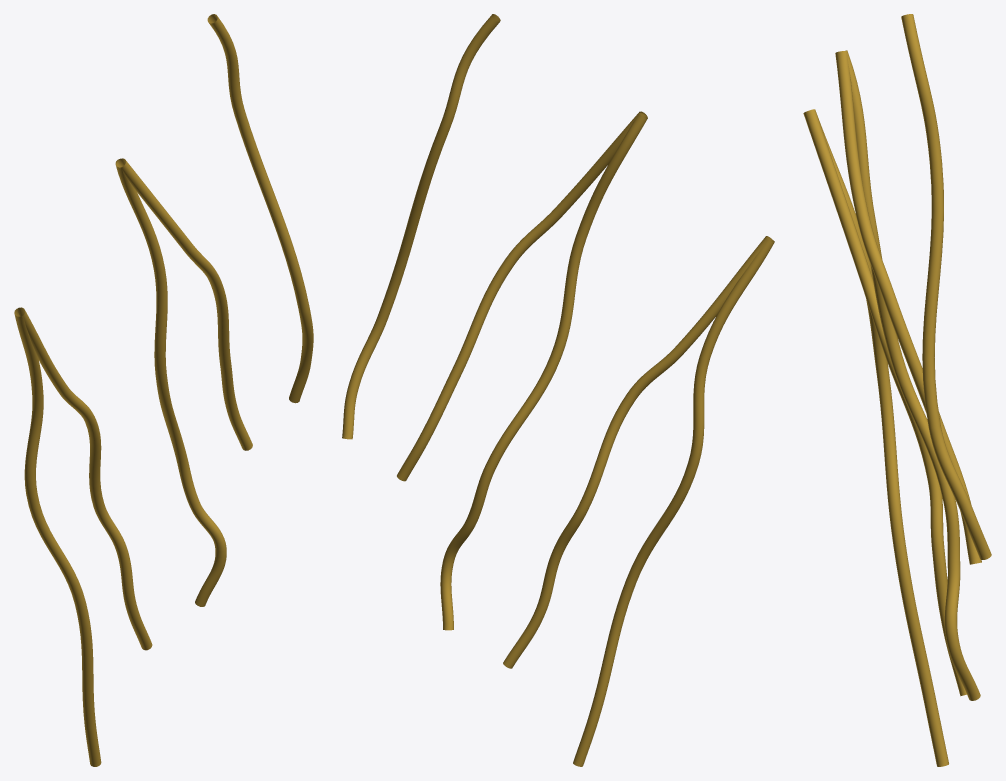
The picture shows the model from 3 angles, left to right: view 1: azimuth 30°, elevation 25°; view 2: azimuth 150°, elevation 25°; view 3: azimuth 270°, elevation 25°; orthographic projection. The views are drawn at different scales.
Visible parts, largest first — view 1: 左侧足底外侧神经趾足底固有神经; view 2: 左侧足底外侧神经趾足底固有神经; view 3: 左侧足底外侧神经趾足底固有神经.
Boxes of the visible parts, x1,y1,x2,y2 form: 左侧足底外侧神经趾足底固有神经: (14, 14, 313, 766); 左侧足底外侧神经趾足底固有神经: (342, 14, 774, 766); 左侧足底外侧神经趾足底固有神经: (803, 14, 991, 766).
Size of the model in its own units: 0.0551 by 0.1056 by 0.0223.
